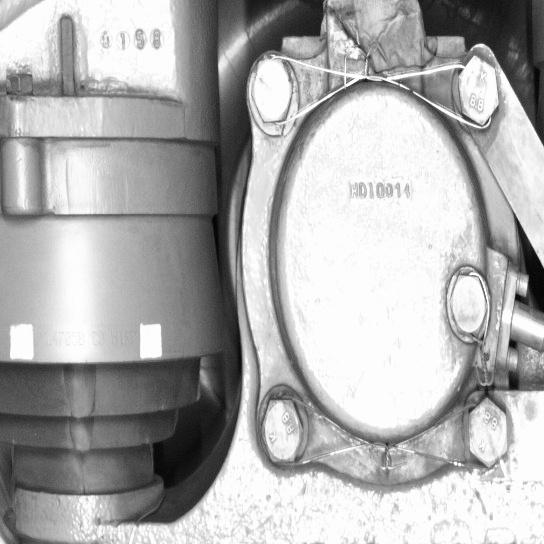IronWire: (257, 388, 514, 472), (247, 50, 505, 131)
Screw: (461, 388, 513, 473), (452, 48, 504, 132), (247, 51, 299, 131), (256, 391, 307, 470), (444, 266, 491, 342)
